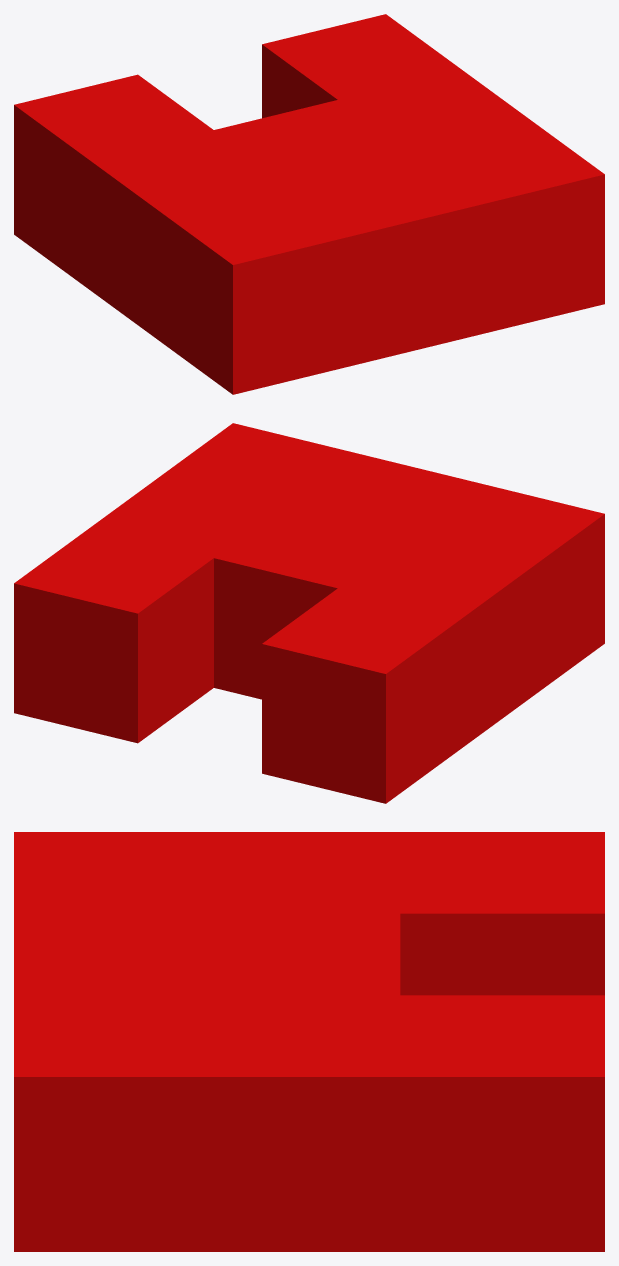
File: enemy.fbx
3 renders of one model, top to bottom at view 1: azimuth 30°, elevation 25°; view 2: azimuth 150°, elevation 25°; view 3: azimuth 270°, elevation 25°, orthographic. The views are drawn at different scales.
Visible parts, largest first — view 1: pCube1; view 2: pCube1; view 3: pCube1.
Part boxes in pixels (left/top/right/bottom): pCube1: left=14, top=14, right=604, bottom=394; pCube1: left=14, top=423, right=604, bottom=803; pCube1: left=14, top=832, right=604, bottom=1251.
Bounding box in the file's own units: 3 × 1 × 3.06.
